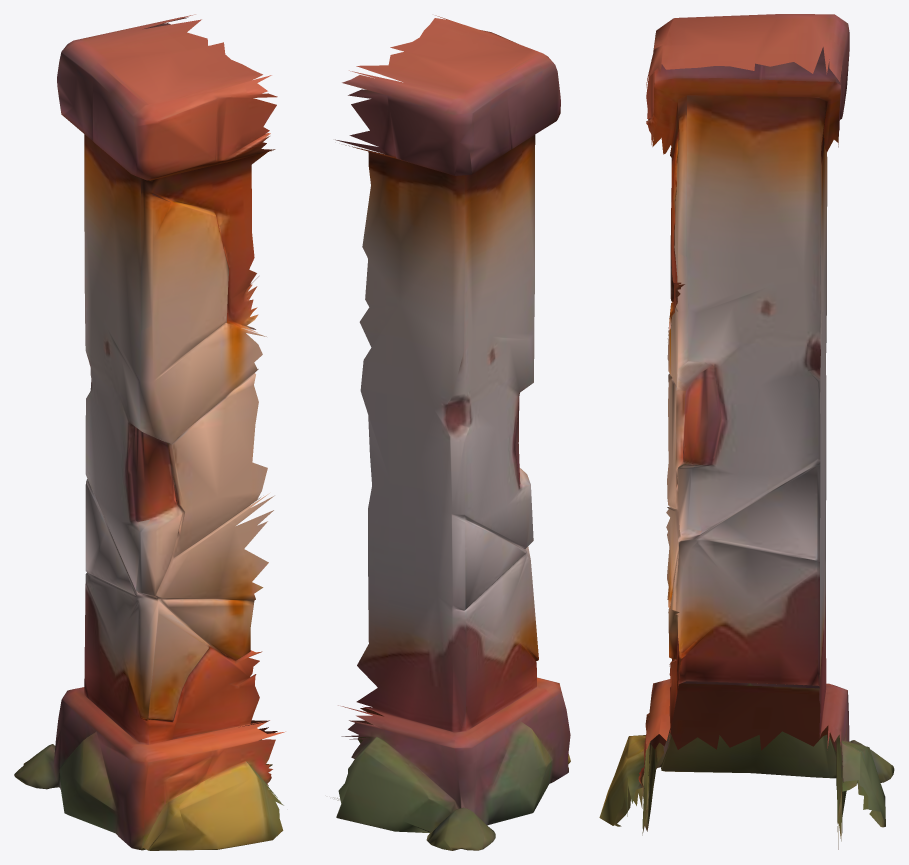
File: gate_1.glb
The picture shows the model from 3 angles, left to right: view 1: azimuth 30°, elevation 25°; view 2: azimuth 150°, elevation 25°; view 3: azimuth 270°, elevation 25°; orthographic projection. The views are drawn at different scales.
Parts seen in each view (by area): view 1: gate_1; view 2: gate_1; view 3: gate_1.
Part boxes in pixels (left/top/right/bottom): gate_1: left=14, top=14, right=285, bottom=850; gate_1: left=333, top=15, right=570, bottom=850; gate_1: left=599, top=14, right=894, bottom=849.
Bounding box in the file's own units: 0.1814 × 0.6874 × 0.2406.
Materials: 1 (1 with a texture image).
